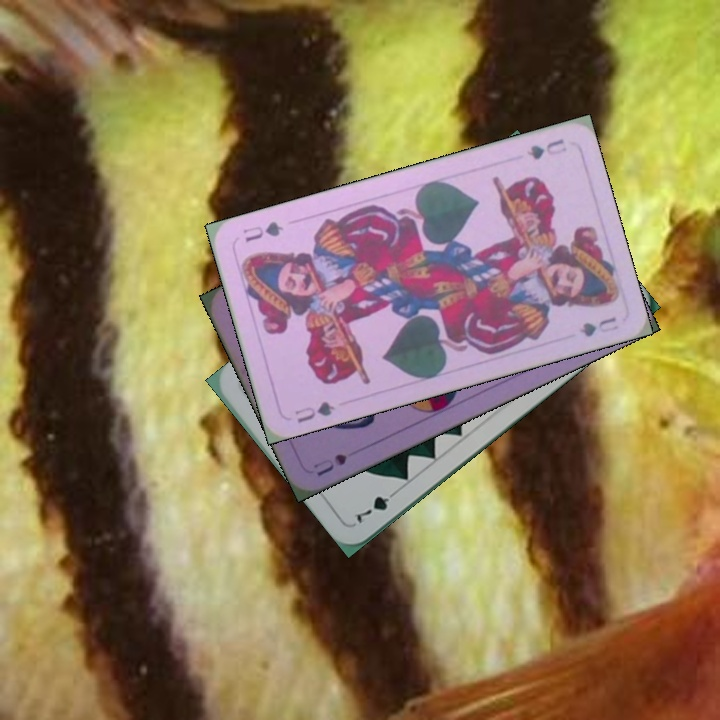G7: (350, 485, 402, 526)
GU: (290, 397, 338, 426), (522, 134, 569, 163)
SU: (309, 449, 350, 479)
